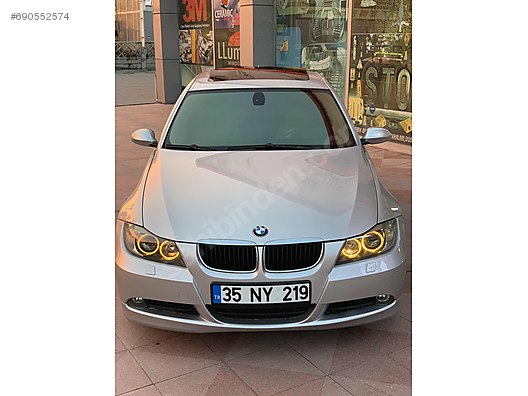bmw: (112, 63, 412, 338)
